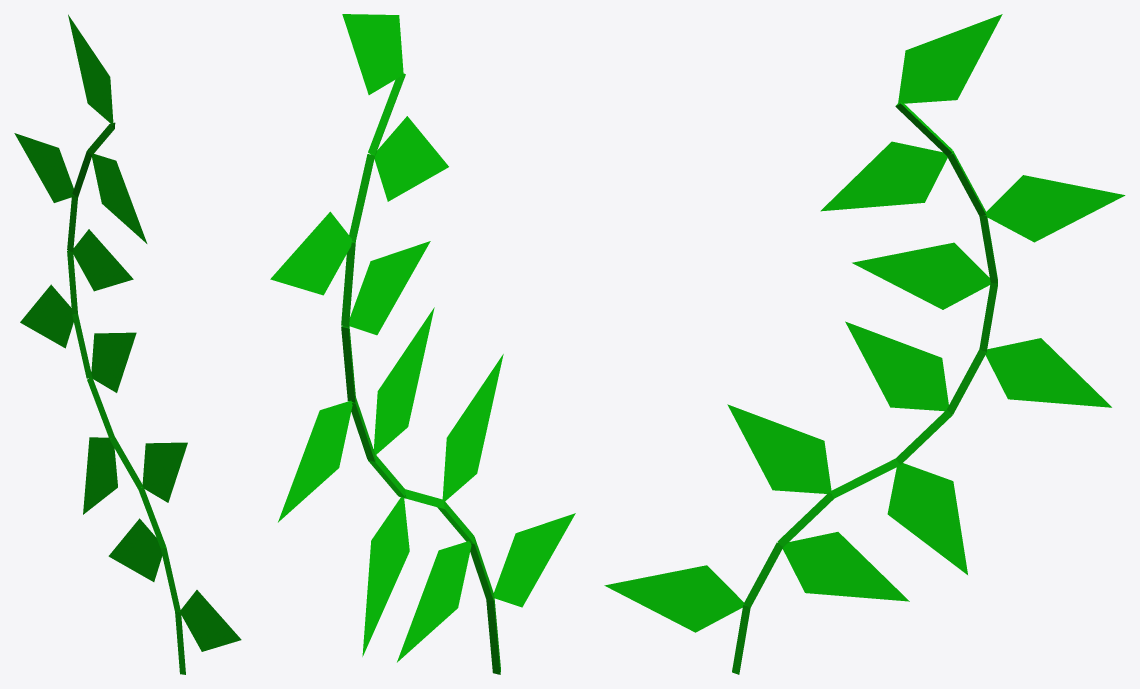
Rendered from Vine 0.obj.
3 renders of one model, left to right at view 1: azimuth 30°, elevation 25°; view 2: azimuth 150°, elevation 25°; view 3: azimuth 270°, elevation 25°, orthographic. The views are drawn at different scales.
Visible parts, largest first — view 1: leaves, stem; view 2: leaves, stem; view 3: leaves, stem.
Part boxes in pixels (bbox=[...]): leaves: bbox=[14, 14, 241, 651]; stem: bbox=[67, 122, 185, 674]; leaves: bbox=[270, 14, 575, 662]; stem: bbox=[341, 73, 500, 674]; leaves: bbox=[604, 14, 1125, 632]; stem: bbox=[732, 102, 997, 674].
Bounding box in the file's own units: 0.3 × 28.95 × 20.76.
